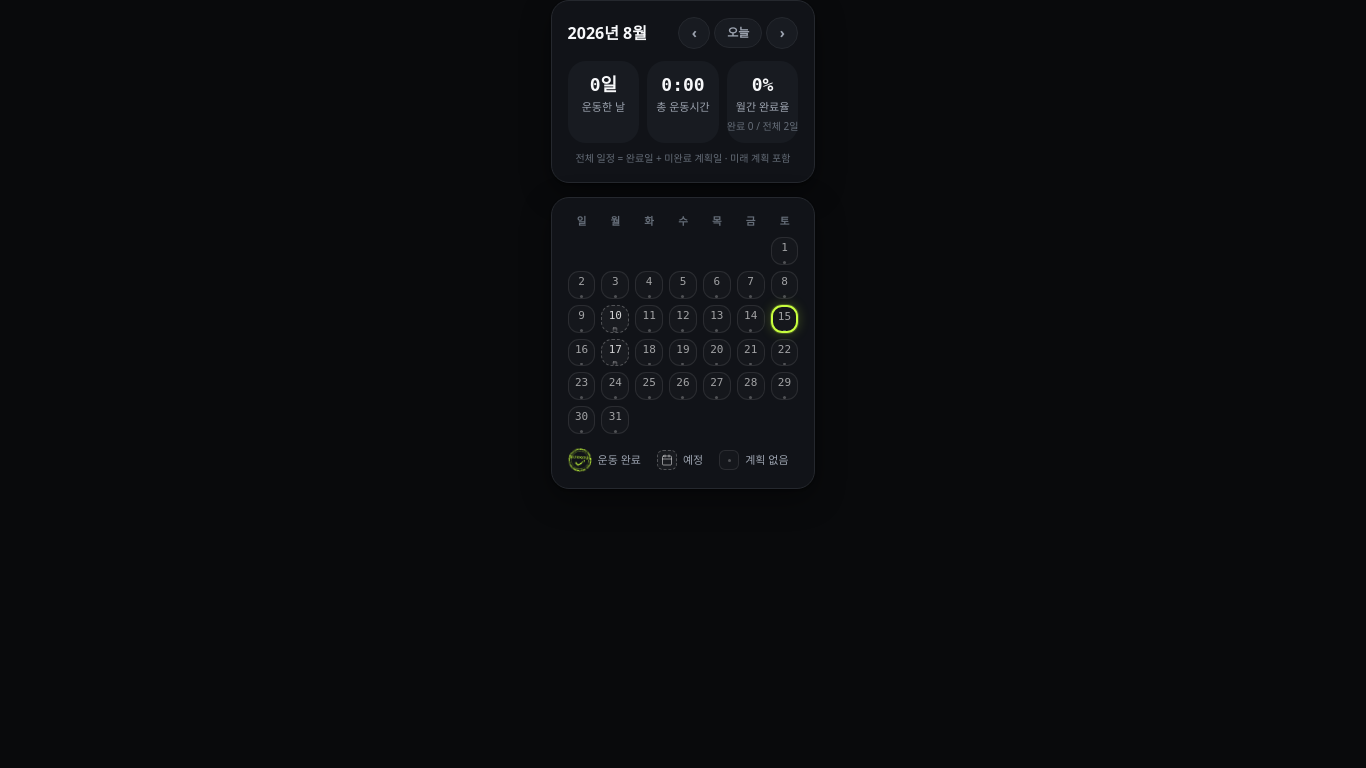
Test: CalendarView — 지난 계획은 기록으로 남는다 (2026-10-07) › 놓친 프로그램 회차에는 삭제·재배치가 없고 잠김 안내가 보인다
Expected: the heading "2026년 8월" is shown, [568, 21, 647, 45]
Click the button named "8월 10일," at (615, 319), box [601, 305, 629, 333]
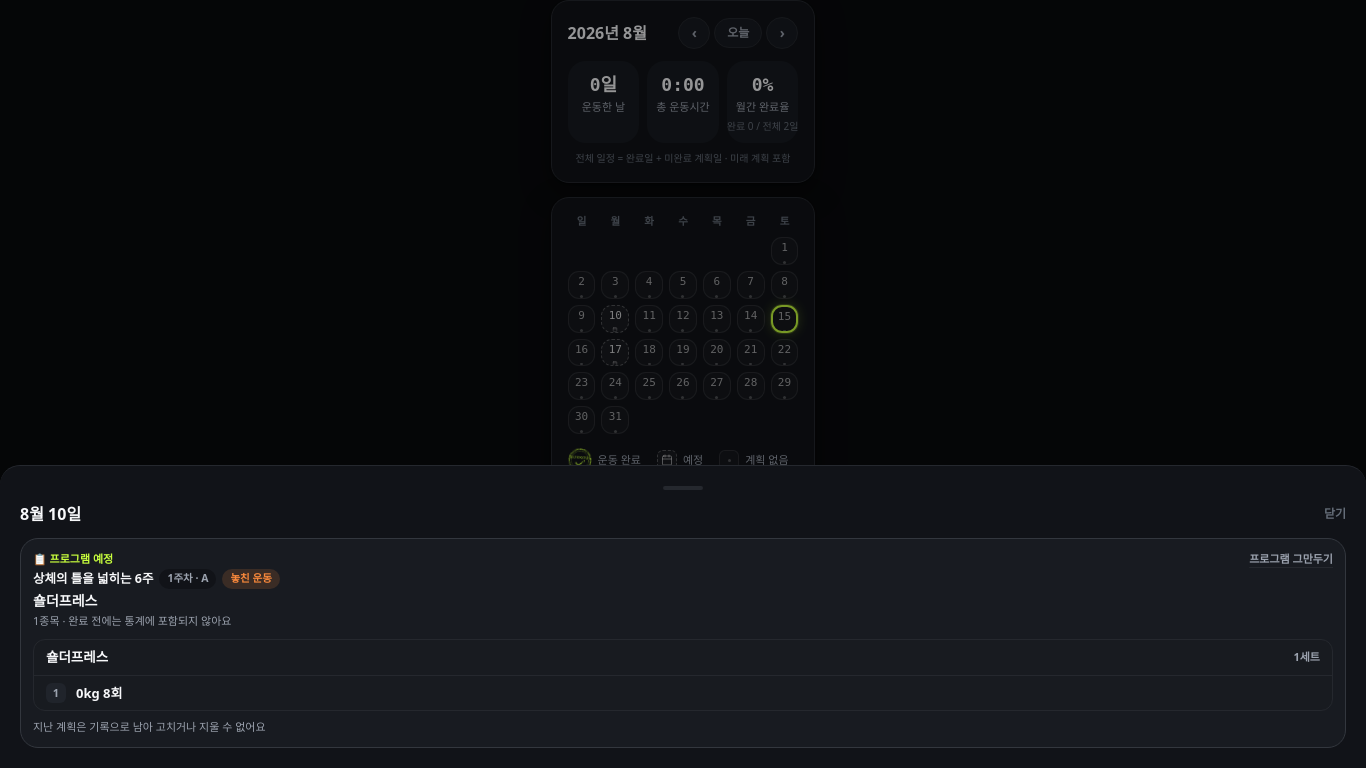
Expected: the text "놓친 운동" is shown, [222, 569, 280, 588]
Expected: the text "지난 계획은 기록으로 남아 고치거나 지울 수 없어요" is shown, [33, 719, 266, 734]
